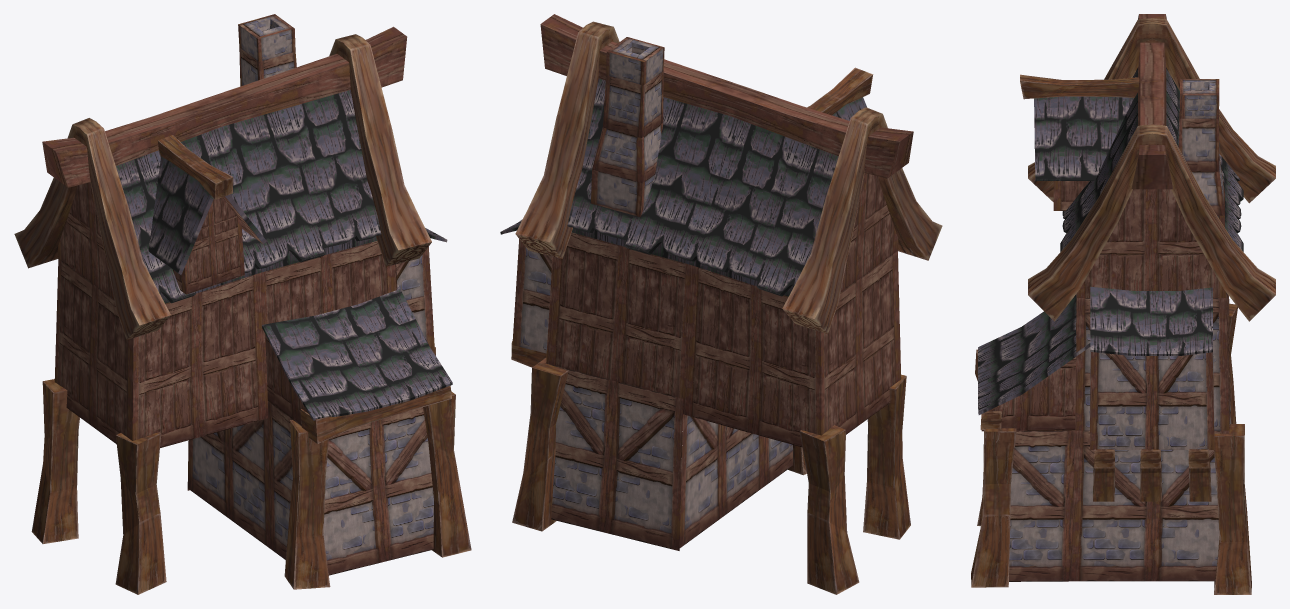
The model's file is house03.fbx.
The picture shows the model from 3 angles, left to right: view 1: azimuth 30°, elevation 25°; view 2: azimuth 150°, elevation 25°; view 3: azimuth 270°, elevation 25°; orthographic projection. The views are drawn at different scales.
Parts seen in each view (by area): view 1: casa03; view 2: casa03; view 3: casa03.
Boxes of the visible parts, left/top/right/bottom form: casa03: left=14, top=14, right=471, bottom=594; casa03: left=500, top=14, right=942, bottom=594; casa03: left=971, top=14, right=1275, bottom=594.
Bounding box in the file's own units: 398 × 487 × 289.
